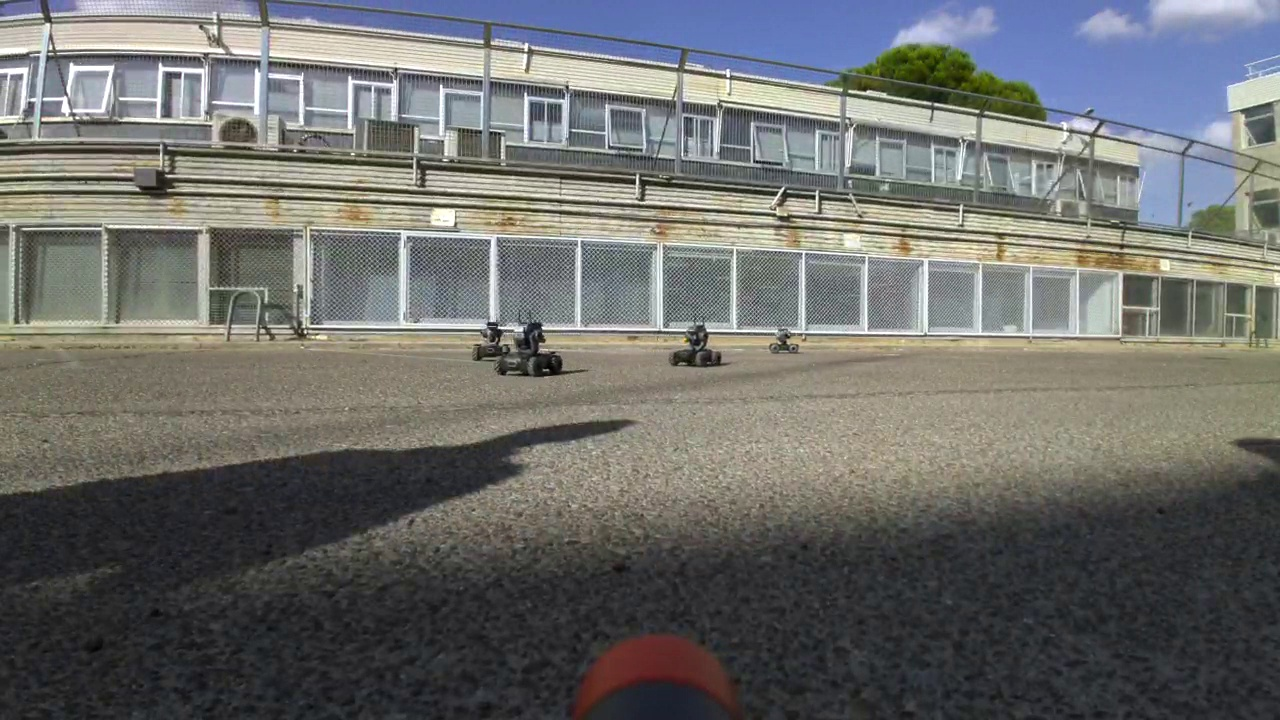robot: (491, 311, 563, 375), (666, 314, 726, 368), (472, 316, 509, 360), (767, 320, 800, 355)
